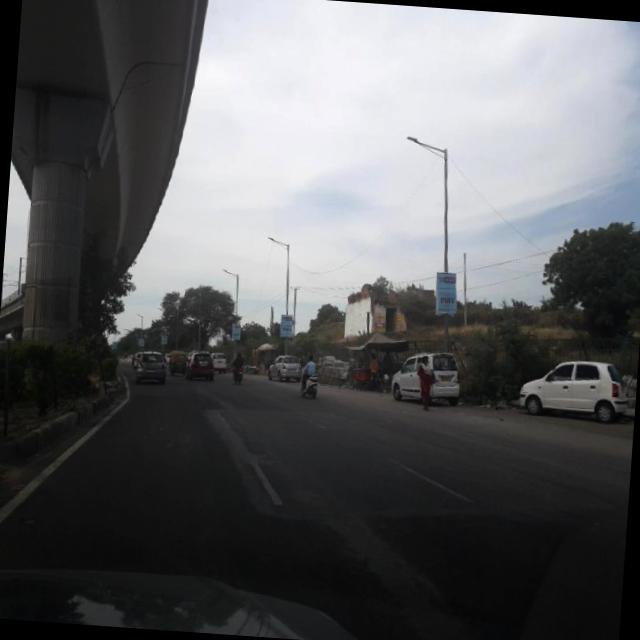crack: (294, 528, 421, 640)
